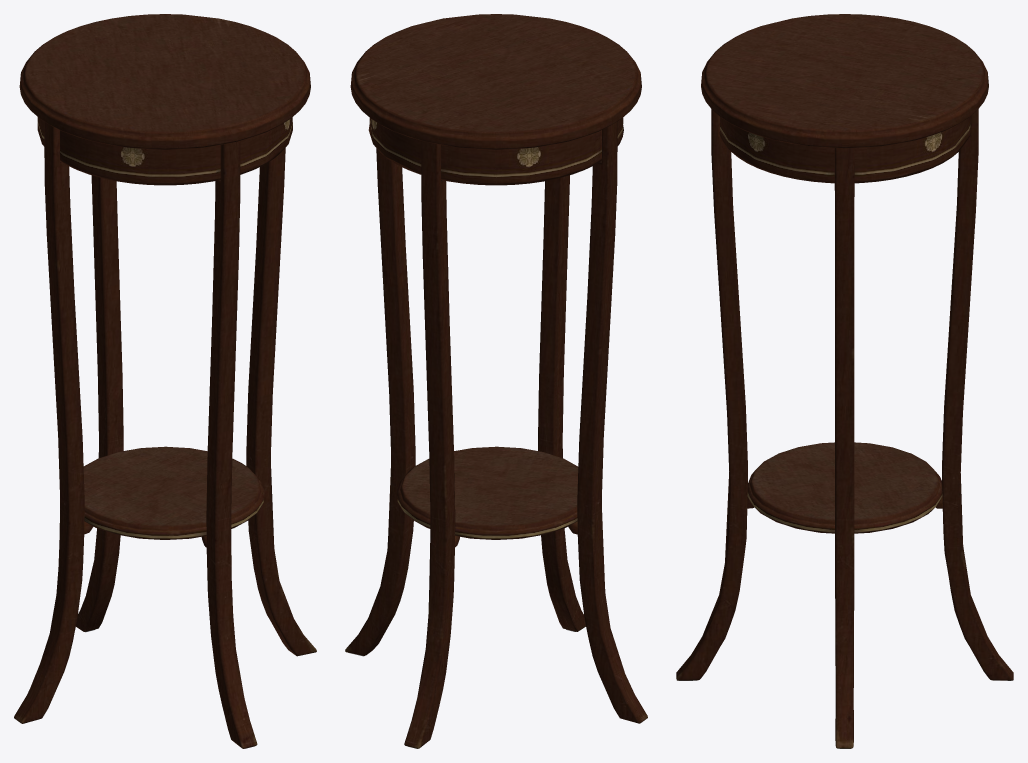
The model's file is side_table_tall_01_lod1.glb.
3 views of the same model, side by side, from view 1: azimuth 30°, elevation 25°; view 2: azimuth 150°, elevation 25°; view 3: azimuth 270°, elevation 25° (orthographic).
Parts seen in each view (by area): view 1: side_table_tall_01; view 2: side_table_tall_01; view 3: side_table_tall_01.
Part boxes in pixels (x1,y1,x2,y2): side_table_tall_01: [14, 14, 316, 748]; side_table_tall_01: [345, 14, 647, 748]; side_table_tall_01: [676, 14, 1013, 748].
Bounding box in the file's own units: 0.384 × 0.7611 × 0.384.
Materials: 1 (1 with a texture image).
